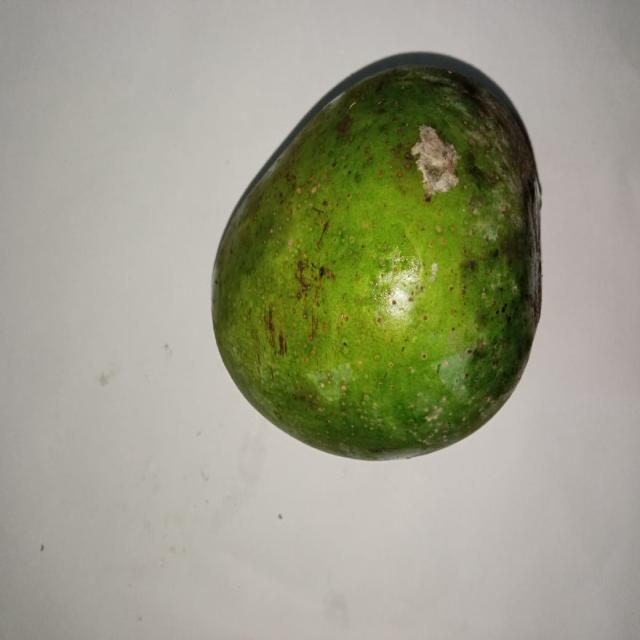rotten_mango: (212, 65, 544, 463)
